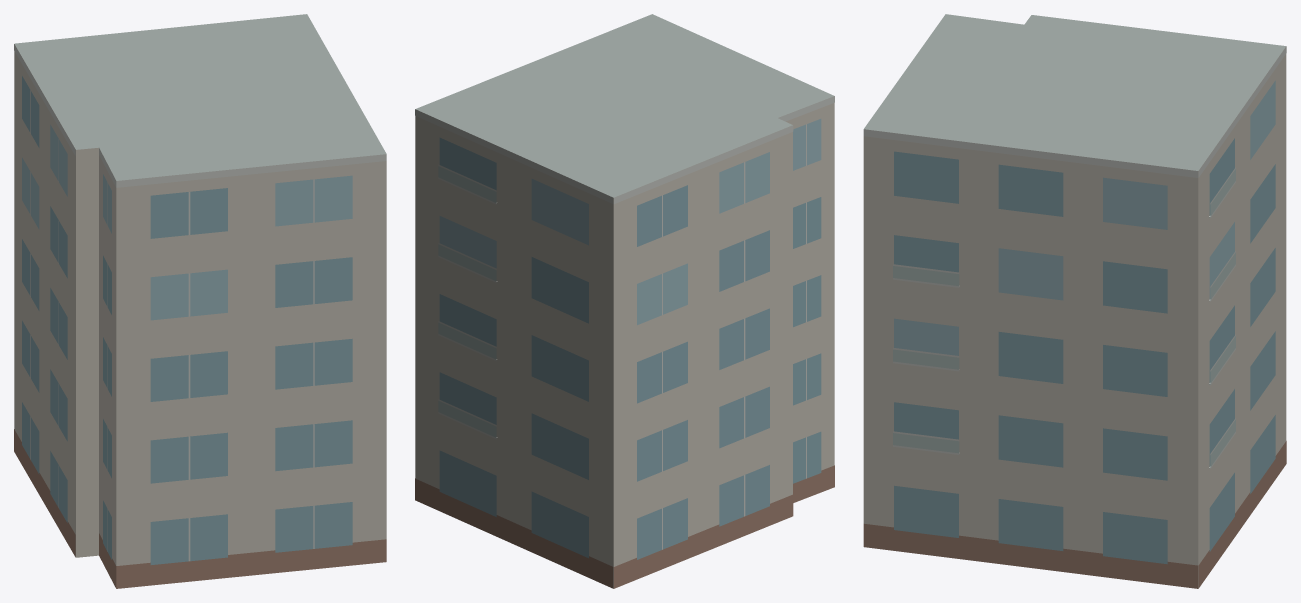
File: survey-upis-32957527.glb
3 views of the same model, side by side, from view 1: azimuth 30°, elevation 25°; view 2: azimuth 150°, elevation 25°; view 3: azimuth 270°, elevation 25° (orthographic). The views are drawn at different scales.
Parts seen in each view (by area): view 1: survey-upis-32957527.tmp; view 2: survey-upis-32957527.tmp; view 3: survey-upis-32957527.tmp.
Part boxes in pixels (x1,y1,x2,y2): survey-upis-32957527.tmp: (14, 14, 386, 588); survey-upis-32957527.tmp: (415, 14, 834, 588); survey-upis-32957527.tmp: (863, 14, 1286, 588).
Bounding box in the file's own units: 11.62 × 14.4 × 13.22.
